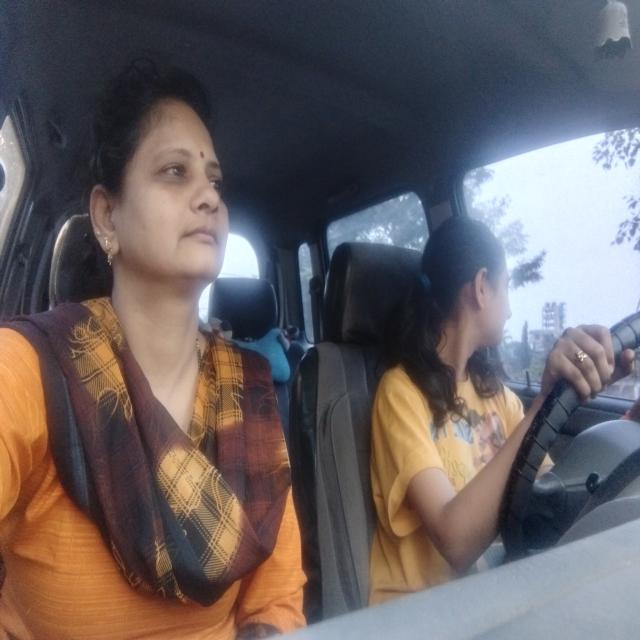LeftRight: (444, 200, 520, 371)
person: (81, 58, 239, 292)
